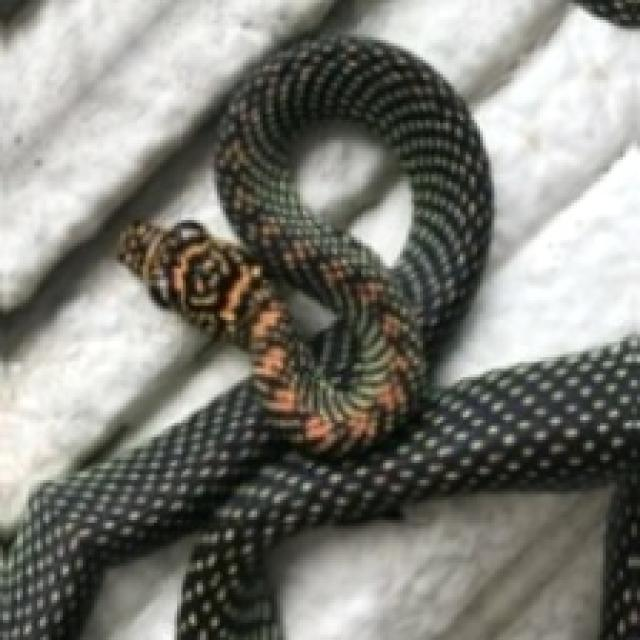paradise tree snake: (120, 37, 489, 451), (291, 126, 414, 269)
